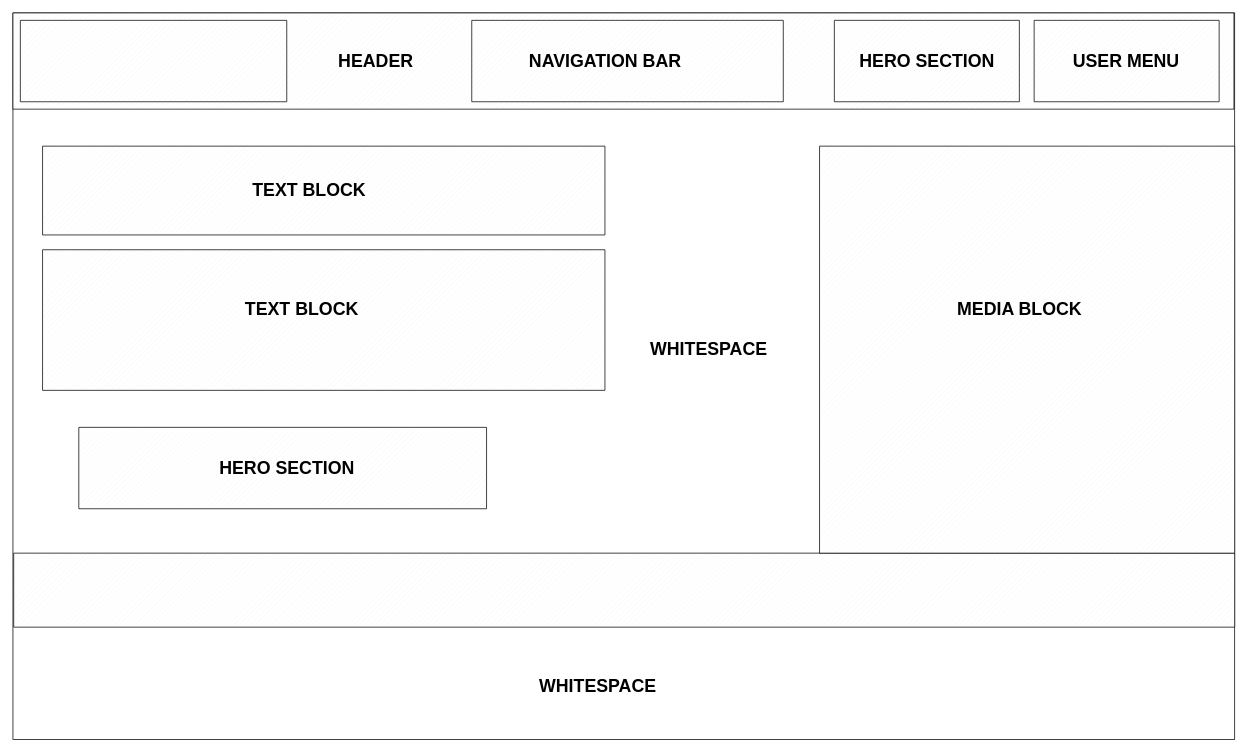
Some shapes in this 1248 by 753 pixel diagram are drawn without their labels. Here are the shapes that lost their labels. From the top down, the box of each, then its label:
(20, 20, 287, 102): LOGO
(471, 20, 783, 102): ll
(13, 552, 1235, 627): FOOTER
